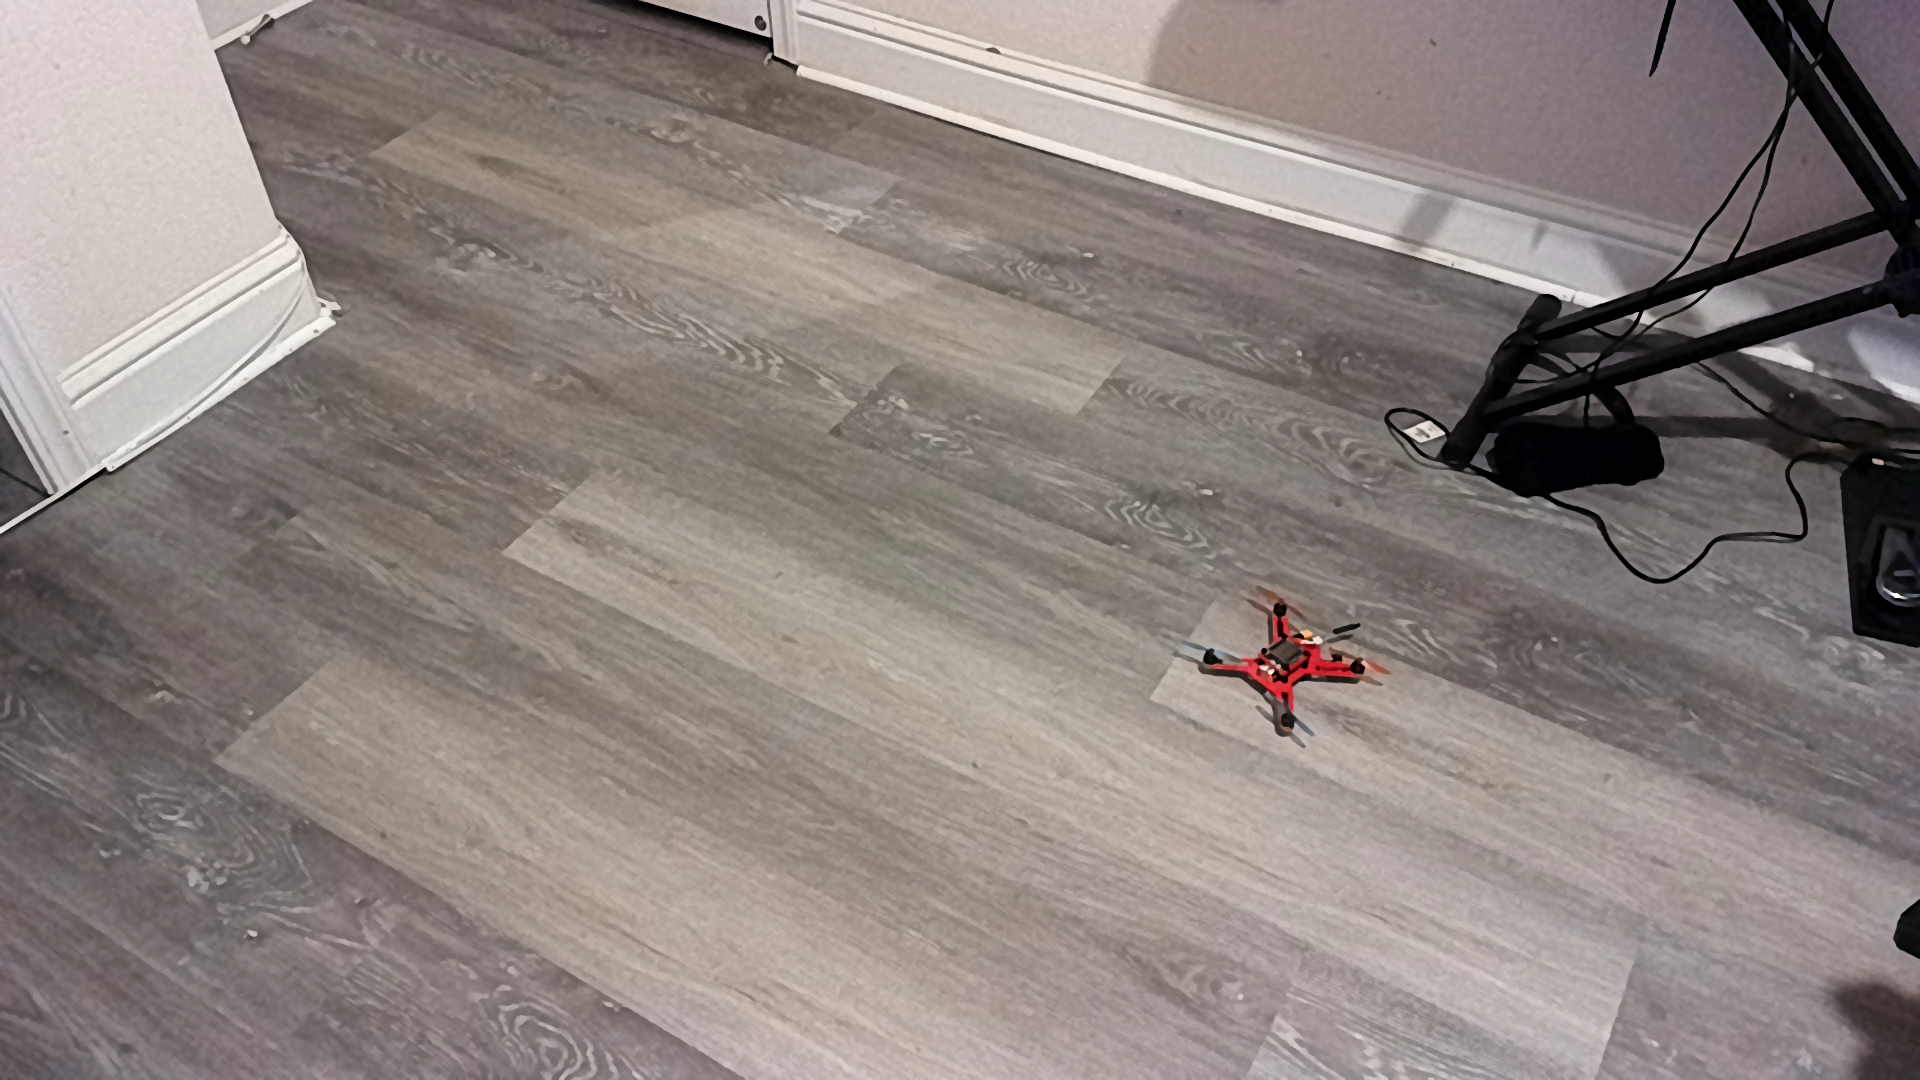drone: (1176, 582, 1411, 752)
